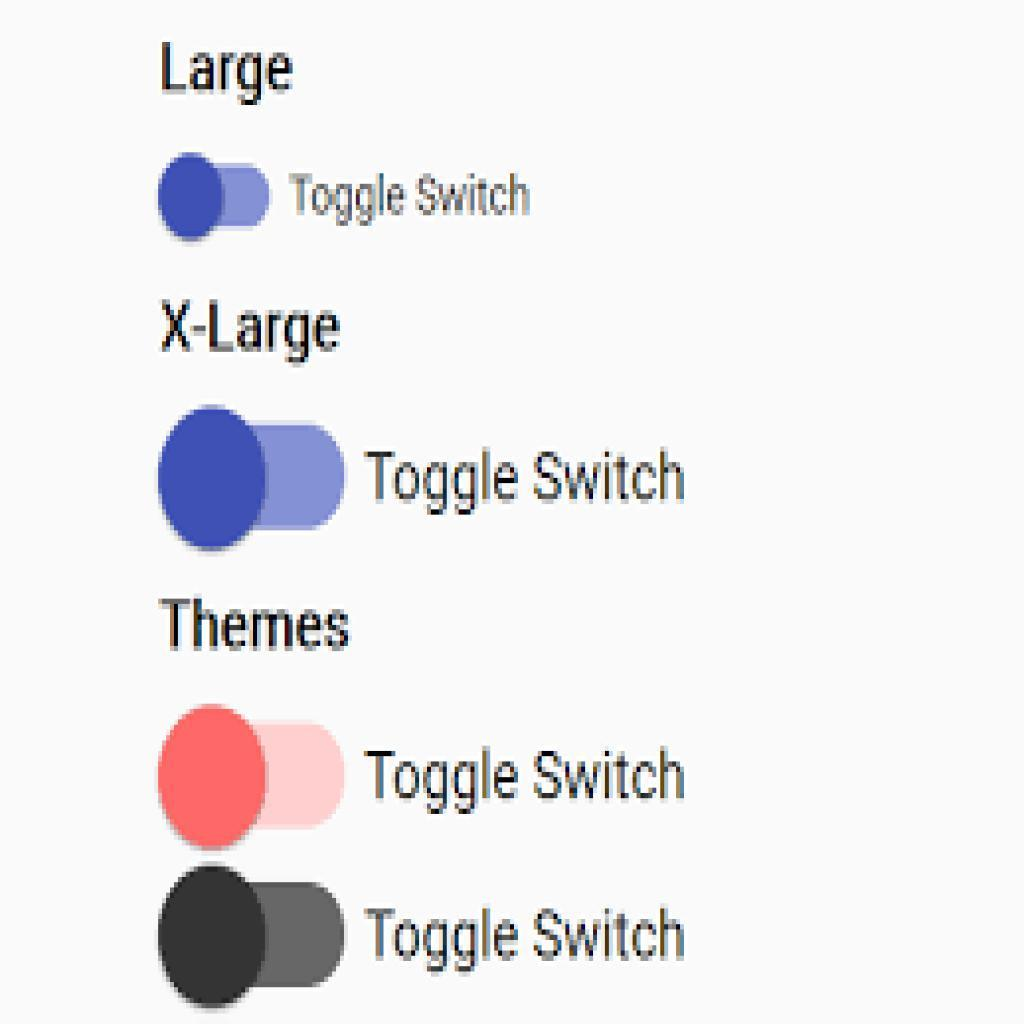switch: (152, 705, 349, 848), (158, 408, 354, 551), (160, 869, 351, 1008), (153, 147, 277, 248)
